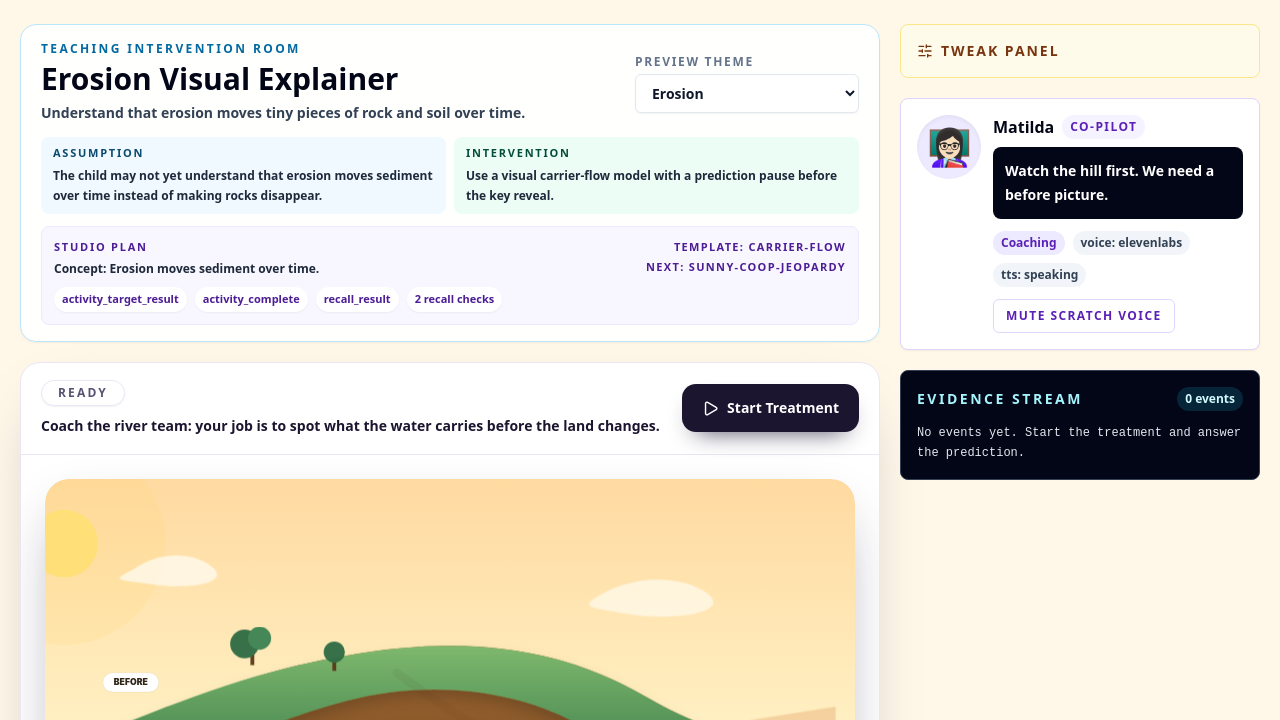
Test case: VisualExplainerDemo › replaces the start action with a prediction cue once the scene pauses
Click the button "Start Treatment": click(771, 408) [682, 384, 859, 432]
(page scrolled)
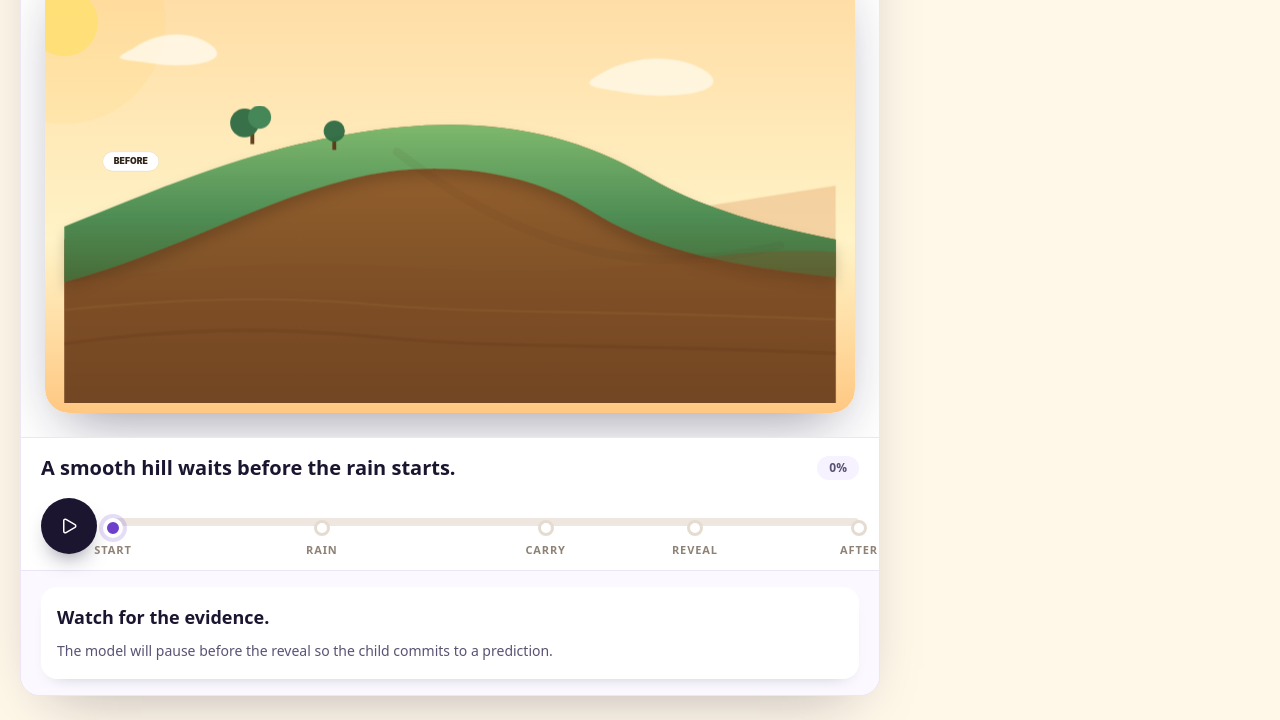
Set the slider with test id "visual-explainer-scrubber" to "48": (486, 526) [113, 498, 859, 554]
(page scrolled)
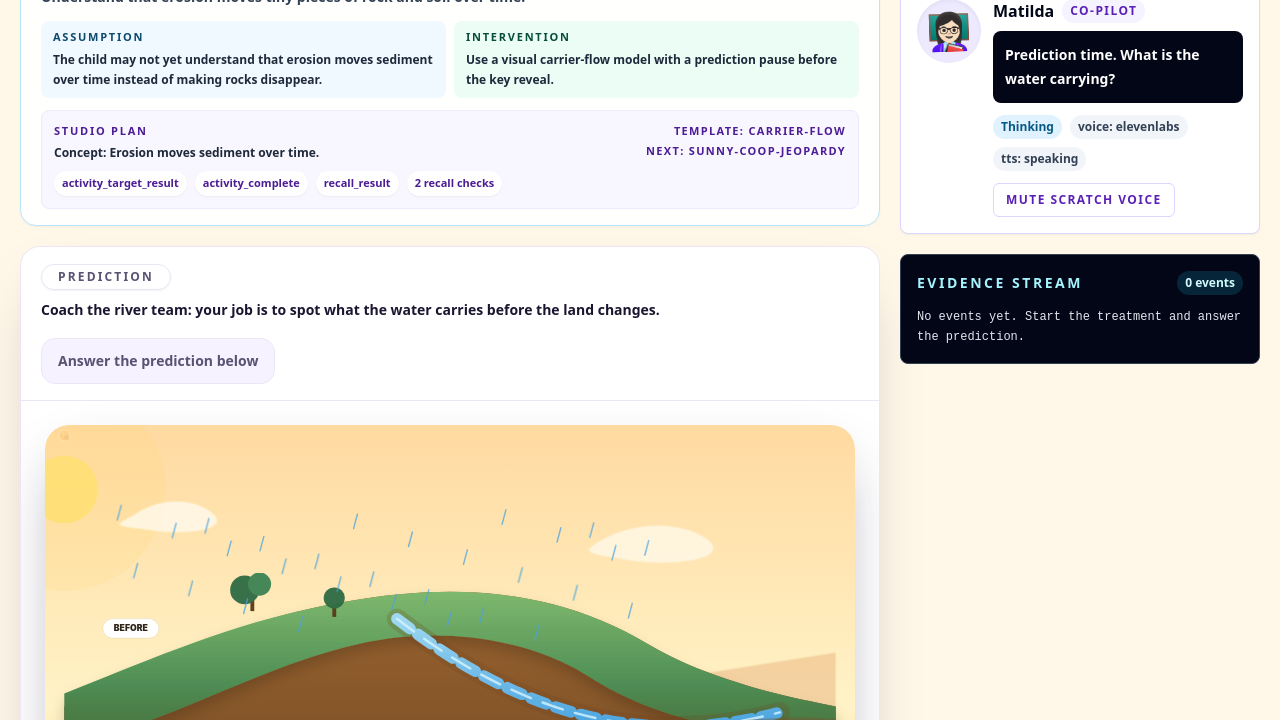
Check: the button "Start Treatment" is not shown
Check: the text "Answer the prediction below" is shown, box [41, 338, 275, 384]
